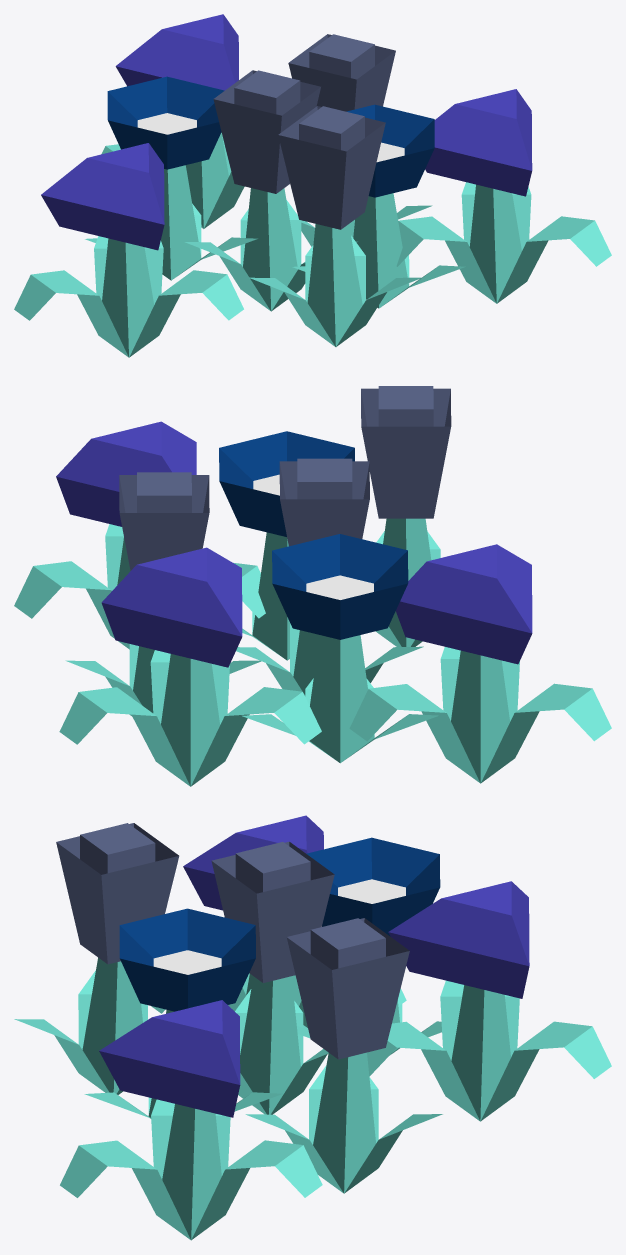
File: flowerBlue02.fbx
3 renders of one model, top to bottom at view 1: azimuth 30°, elevation 25°; view 2: azimuth 150°, elevation 25°; view 3: azimuth 270°, elevation 25°, orthographic. The views are drawn at different scales.
Visible parts, largest first — view 1: flower_purpleB3; view 2: flower_purpleB3; view 3: flower_purpleB3.
Boxes of the visible parts, left/top/right/bottom form: flower_purpleB3: left=14, top=14, right=611, bottom=357; flower_purpleB3: left=14, top=386, right=611, bottom=786; flower_purpleB3: left=14, top=815, right=611, bottom=1240.
Size of the model in its own units: 6.04 by 2.76 by 5.44.
